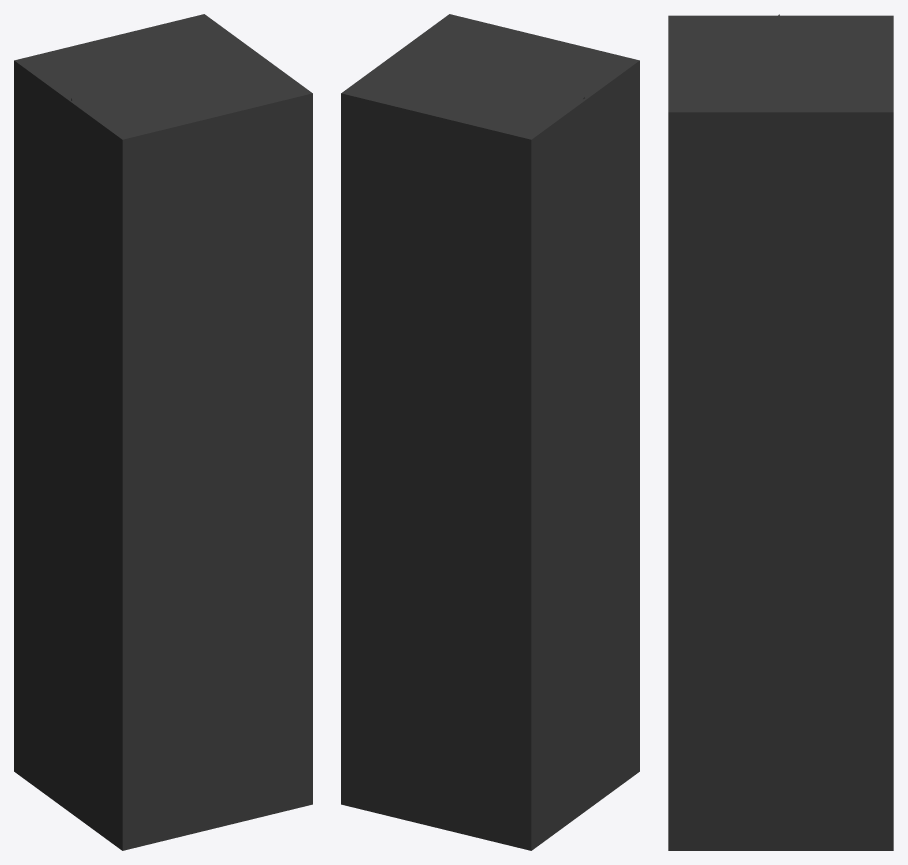
File: pillarsegment_01.glb
3 views of the same model, side by side, from view 1: azimuth 30°, elevation 25°; view 2: azimuth 150°, elevation 25°; view 3: azimuth 270°, elevation 25° (orthographic). The views are drawn at different scales.
Visible parts, largest first — view 1: geometry_0; view 2: geometry_0; view 3: geometry_0.
Part boxes in pixels (x1,y1,x2,y2): geometry_0: (14, 14, 312, 850); geometry_0: (341, 14, 639, 850); geometry_0: (668, 14, 893, 850).
Size of the model in its own units: 1.41 by 5.04 by 1.39.
Materials: 1 (1 with a texture image).
